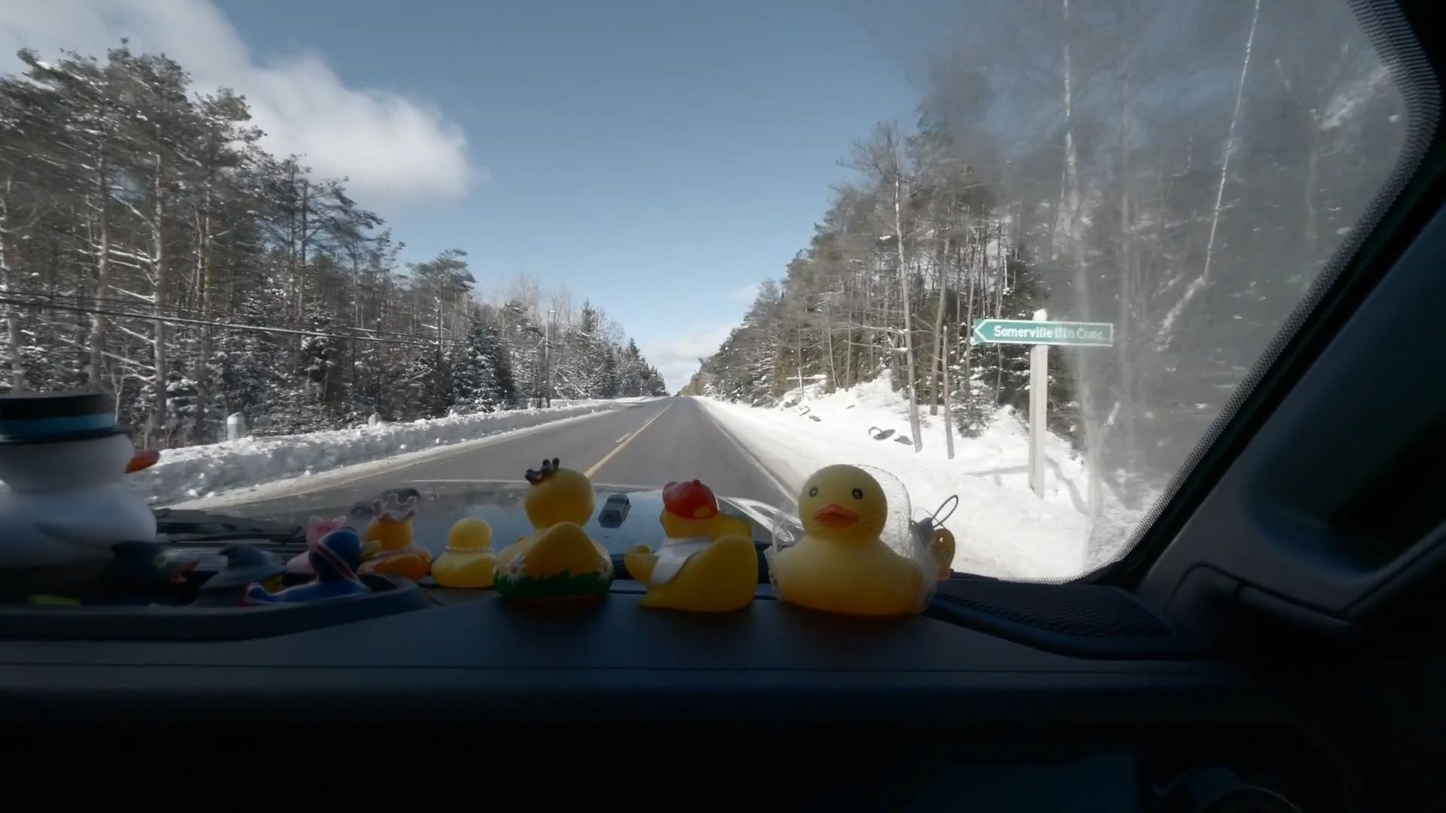Snow: (700, 376, 1116, 578), (148, 394, 657, 508)
dry: (173, 397, 796, 511)
